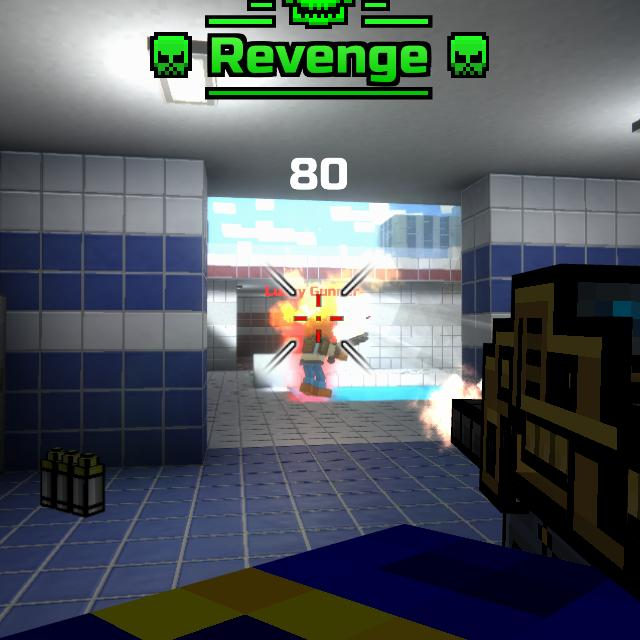Enemy: (299, 314, 348, 398)
